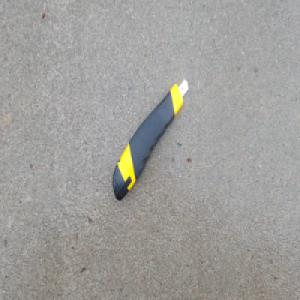Cutter: (110, 73, 192, 204)
